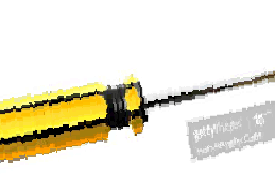Screwdriver: (2, 69, 275, 166)
